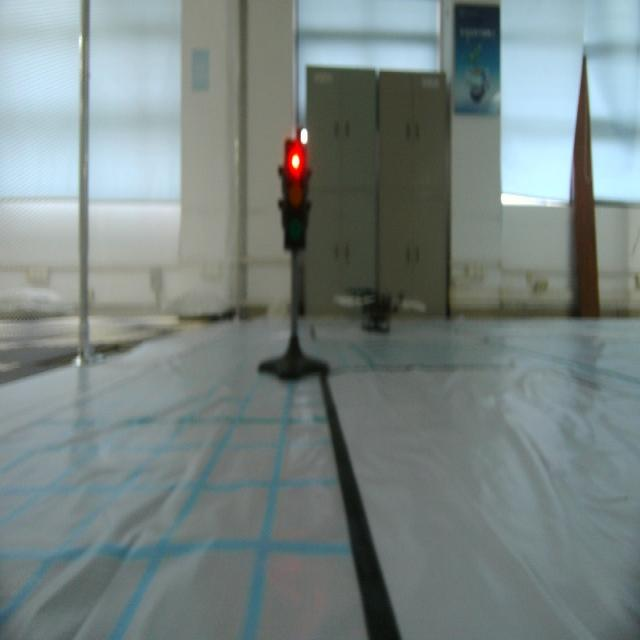red: (276, 135, 314, 259)
